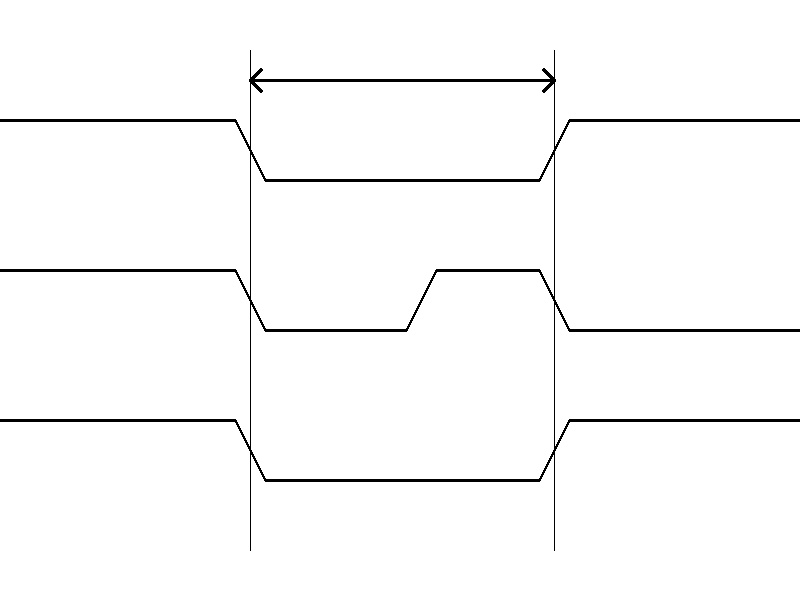double_arrow: (250, 65, 554, 95)
